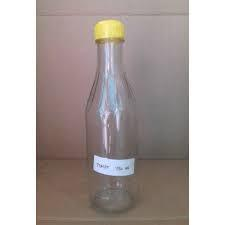BIODEGRADABLE: (82, 21, 148, 215)
